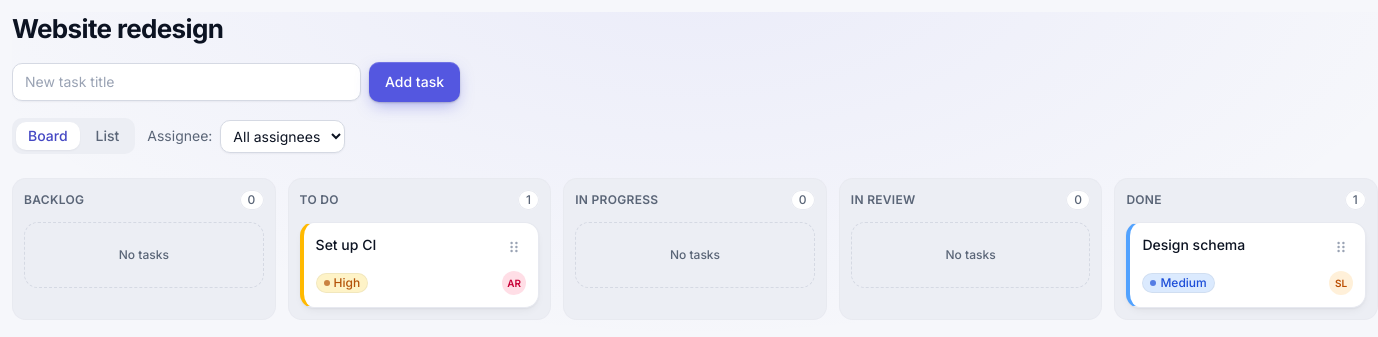
it: ProjectBoardPage › filters tasks by assignee
Check: the button "Set up CI" is shown, box [316, 235, 376, 255]
Step 1. Select "Sam Lee" in the dropdown named "Filter by assignee" → point(283, 136), box [220, 120, 345, 152]
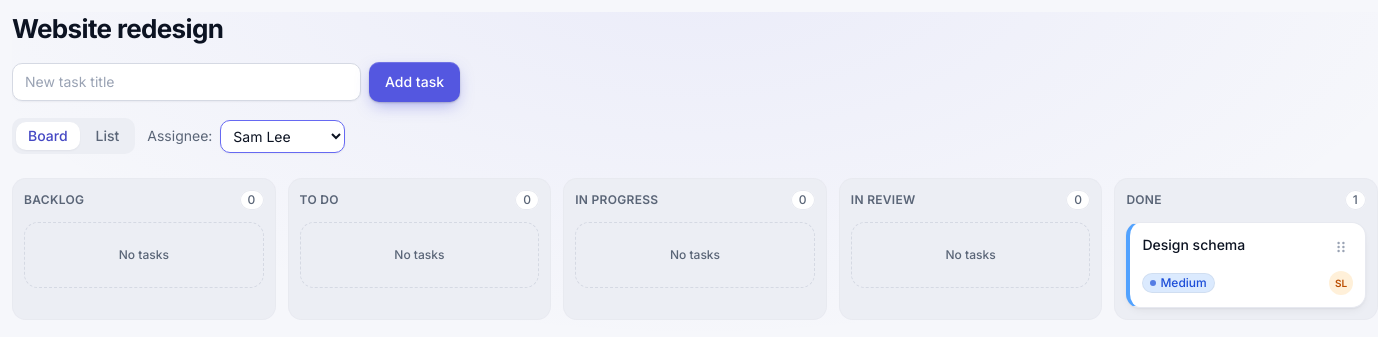
Check: the button "Design schema" is shown, box [1142, 235, 1245, 255]
Check: the button "Set up CI" is gone
